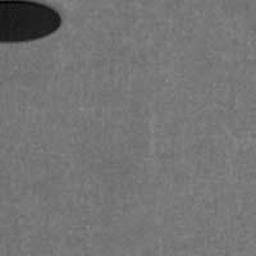Punching: (0, 0, 63, 44)
